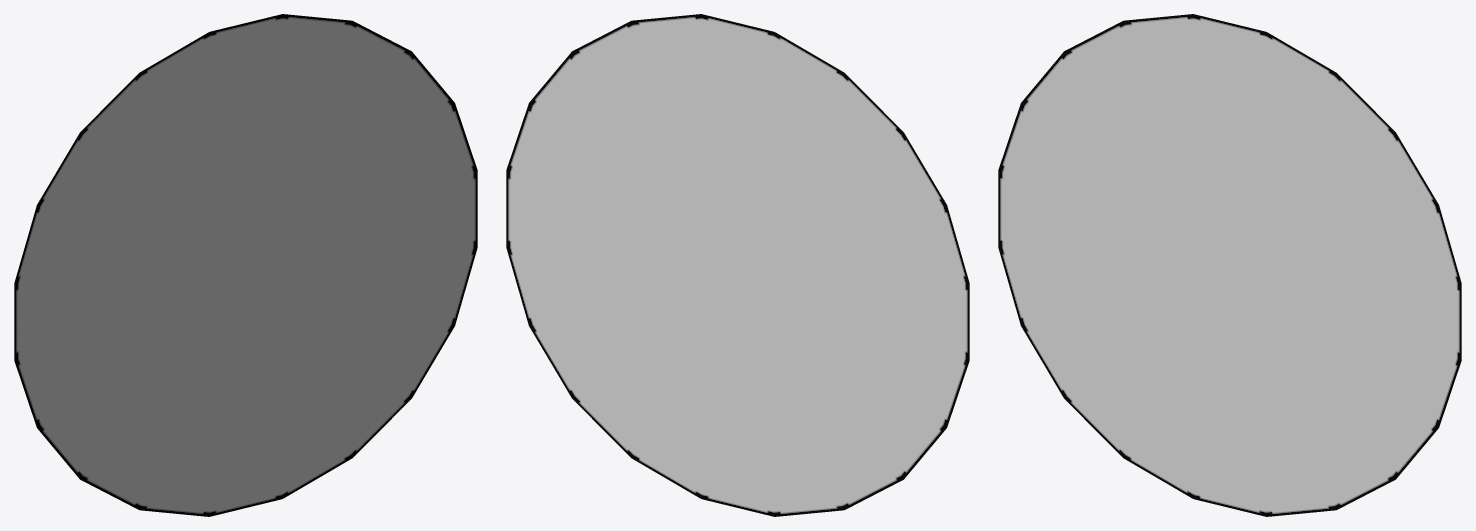
3 views of the same model, side by side, from view 1: azimuth 30°, elevation 25°; view 2: azimuth 150°, elevation 25°; view 3: azimuth 330°, elevation 25° (orthographic).
Visible parts, largest first — view 1: Joint_0_Object_0; view 2: Joint_0_Object_0; view 3: Joint_0_Object_0.
Boxes of the visible parts, x1=… form: Joint_0_Object_0: x1=14, y1=14, x2=477, y2=516; Joint_0_Object_0: x1=506, y1=14, x2=969, y2=516; Joint_0_Object_0: x1=998, y1=14, x2=1461, y2=516.
Bounding box in the file's own units: 608 × 608 × 0.
1 material, 1 textured.
